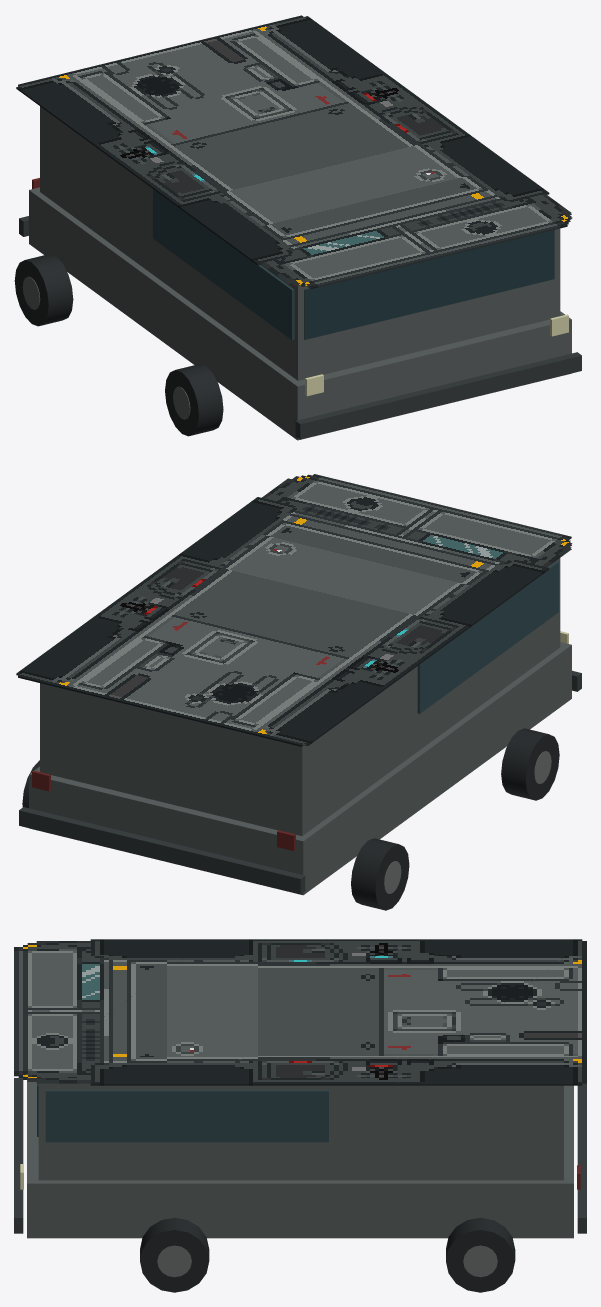
The model's file is CMU3DReduxVehicleAPC.glb.
The picture shows the model from 3 angles, top to bottom: view 1: azimuth 30°, elevation 25°; view 2: azimuth 150°, elevation 25°; view 3: azimuth 270°, elevation 25°; orthographic projection.
Visible parts, largest first — view 1: source hull roof panel (×3), upper hull, closed lower chassis, cab windscreen, cab side window, road tire (×2), front bumper; view 2: source hull roof panel (×3), upper hull, closed lower chassis, cab side window, road tire (×2), rear bumper; view 3: source hull roof panel (×3), upper hull, closed lower chassis, cab side window, road tire (×2), wheel hub (×2), front bumper, rear bumper.
Part boxes in pixels (bbox=[...]): source hull roof panel (×3): bbox=[16, 15, 572, 289]; upper hull: bbox=[40, 106, 560, 380]; closed lower chassis: bbox=[29, 187, 571, 440]; cab windscreen: bbox=[304, 230, 554, 339]; cab side window: bbox=[153, 189, 294, 340]; road tire (×2): bbox=[14, 254, 223, 436]; front bumper: bbox=[295, 352, 581, 439]; source hull roof panel (×3): bbox=[16, 474, 572, 746]; upper hull: bbox=[40, 558, 560, 835]; closed lower chassis: bbox=[29, 642, 571, 895]; cab side window: bbox=[417, 561, 558, 713]; road tire (×2): bbox=[351, 728, 559, 910]; rear bumper: bbox=[19, 807, 305, 894]; source hull roof panel (×3): bbox=[14, 939, 586, 1085]; upper hull: bbox=[38, 1083, 563, 1180]; closed lower chassis: bbox=[27, 1080, 573, 1238]; cab side window: bbox=[45, 1090, 328, 1142]; road tire (×2): bbox=[140, 1217, 515, 1292]; wheel hub (×2): bbox=[157, 1245, 497, 1277]; front bumper: bbox=[14, 1078, 23, 1233]; rear bumper: bbox=[577, 1083, 586, 1233].
Bounding box in the file's own units: 2.88 × 1.49 × 3.97.
Materials: 11 (3 with a texture image).
